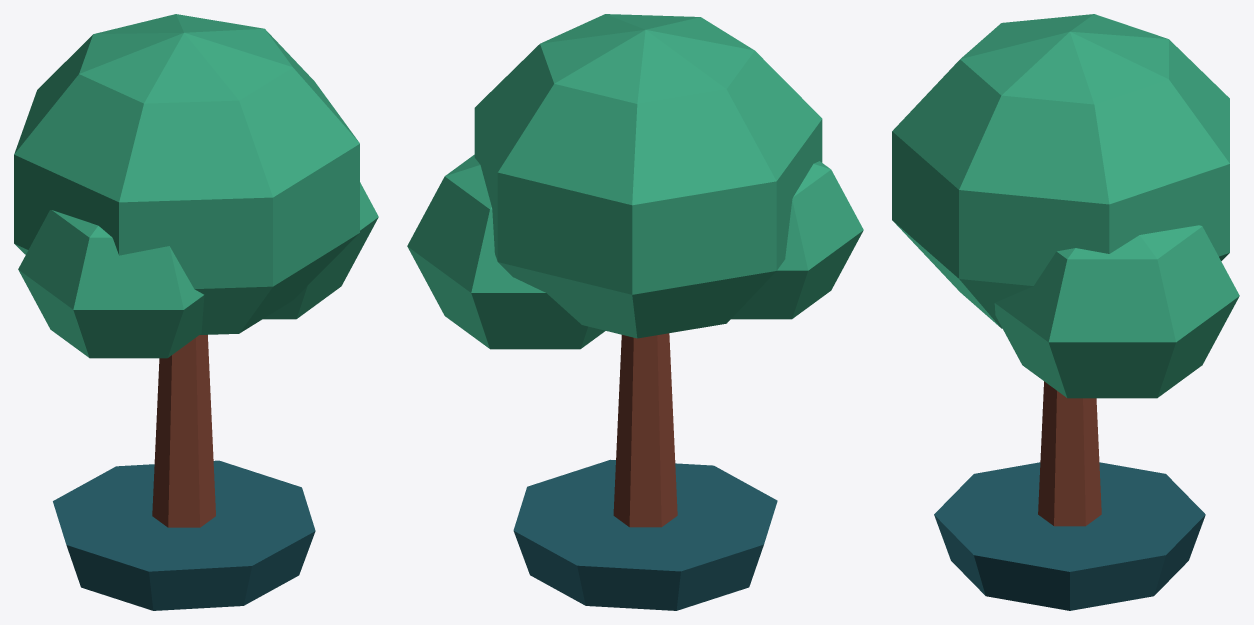
File: City_Tree.fbx
The picture shows the model from 3 angles, left to right: view 1: azimuth 30°, elevation 25°; view 2: azimuth 150°, elevation 25°; view 3: azimuth 270°, elevation 25°; orthographic projection.
Visible parts, largest first — view 1: City_Tree; view 2: City_Tree; view 3: City_Tree.
Boxes of the visible parts, bbox=[...] form: City_Tree: bbox=[14, 14, 378, 610]; City_Tree: bbox=[407, 14, 863, 610]; City_Tree: bbox=[892, 14, 1239, 610].
Size of the model in its own units: 2.36 by 2.05 by 3.44.
